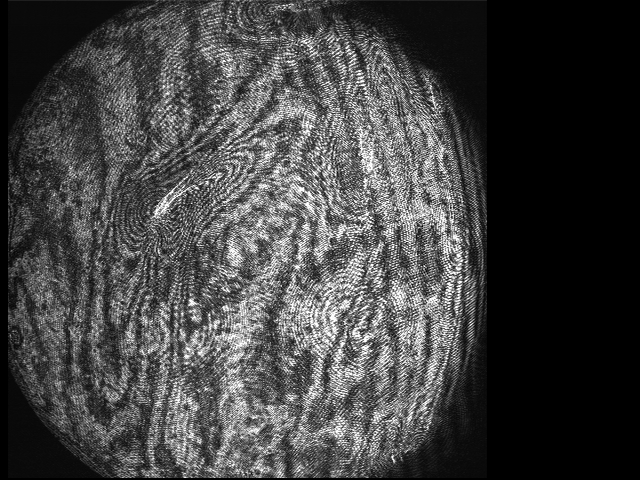plume: (112, 141, 261, 258)
